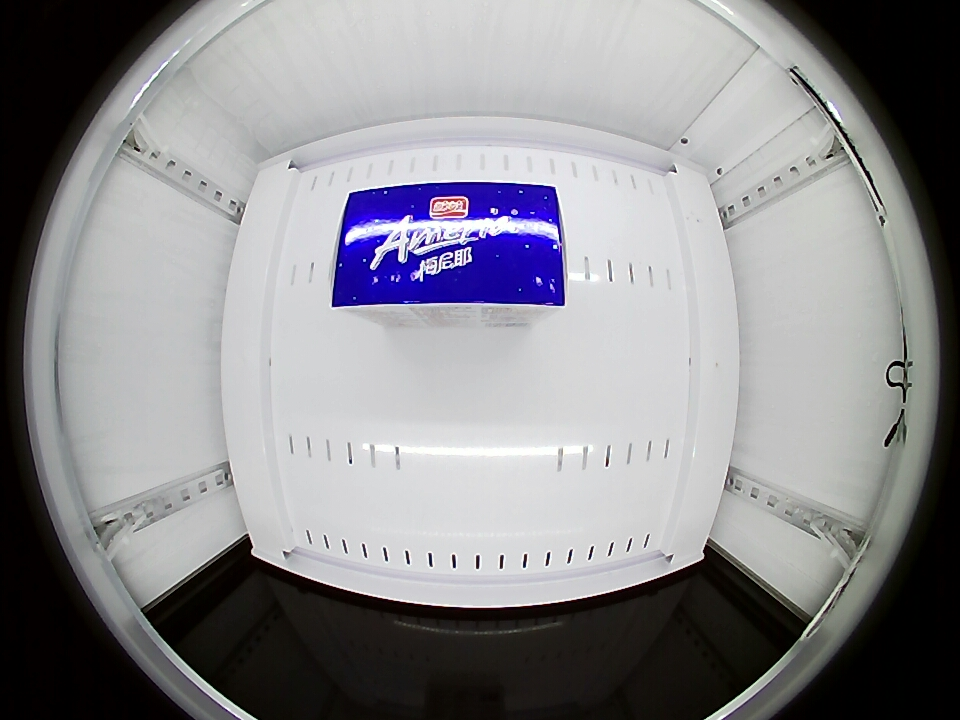meiniye: (328, 182, 569, 313)
